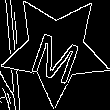M_N: (27, 18, 85, 82)
